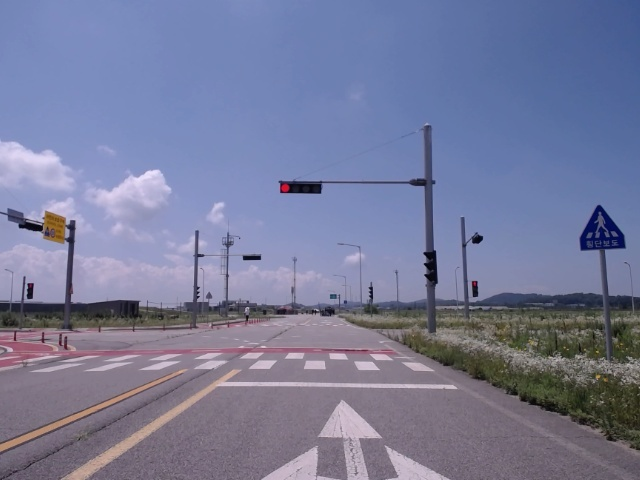red_4: (280, 182, 322, 194)
